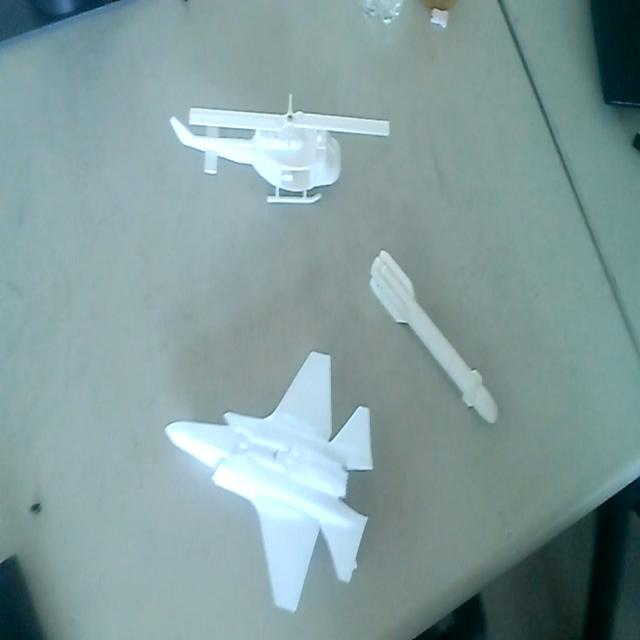Helicopter: (170, 92, 390, 203)
Jet: (160, 346, 374, 610)
Rocket: (368, 241, 502, 429)
